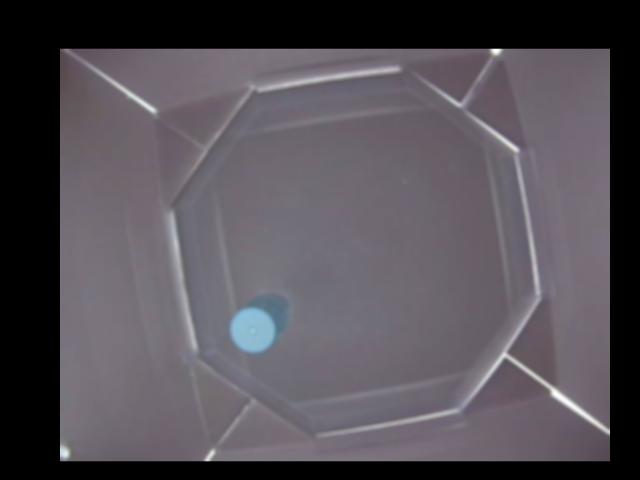Bottle: (230, 292, 290, 354)
